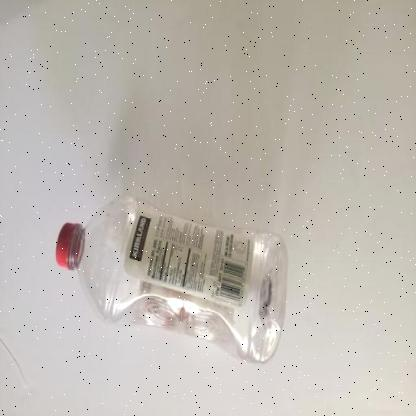Plastic Bottle: (56, 196, 288, 362)
